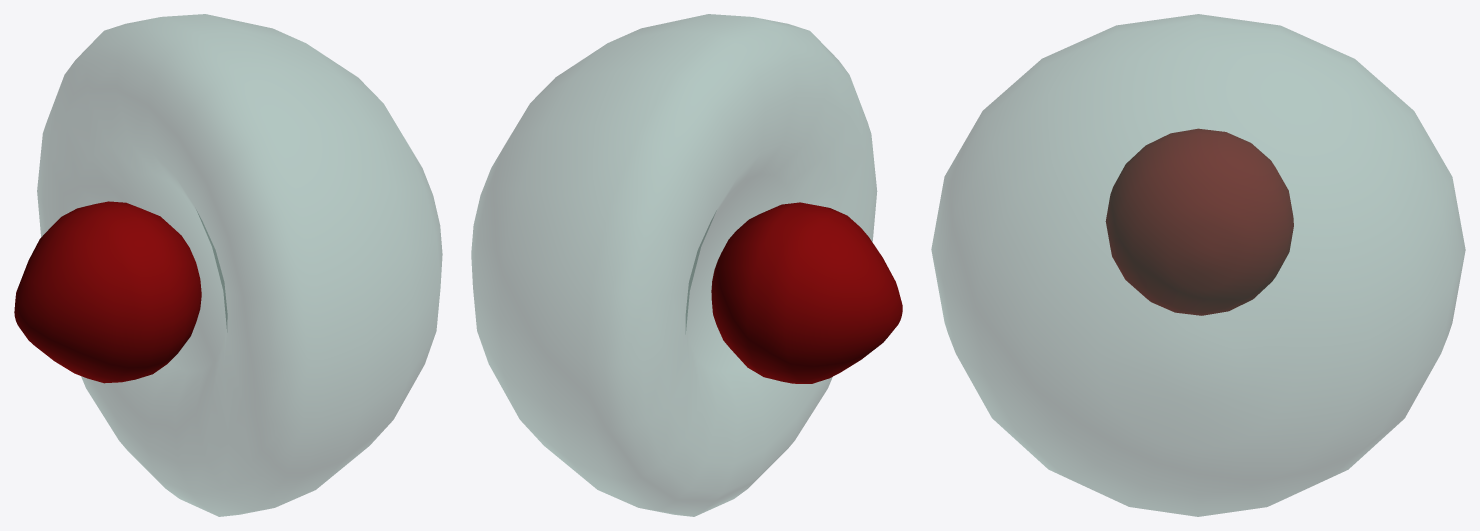
File: Pie_01.gltf
The picture shows the model from 3 angles, left to right: view 1: azimuth 30°, elevation 25°; view 2: azimuth 150°, elevation 25°; view 3: azimuth 270°, elevation 25°; orthographic projection. The views are drawn at different scales.
Parts seen in each view (by area): view 1: Orbital55, Anti__Node_199; view 2: Orbital55, Anti__Node_199; view 3: Orbital55, Anti__Node_199.
Part boxes in pixels (<box>): Orbital55: <box>37,14,442,516</box>; Anti__Node_199: <box>14,201,201,383</box>; Orbital55: <box>471,14,876,516</box>; Anti__Node_199: <box>711,202,902,383</box>; Orbital55: <box>931,14,1465,516</box>; Anti__Node_199: <box>1105,128,1293,315</box>.
Size of the model in its own units: 0.1865 by 0.2093 by 0.2119.
Materials: 2 (1 with a texture image).
